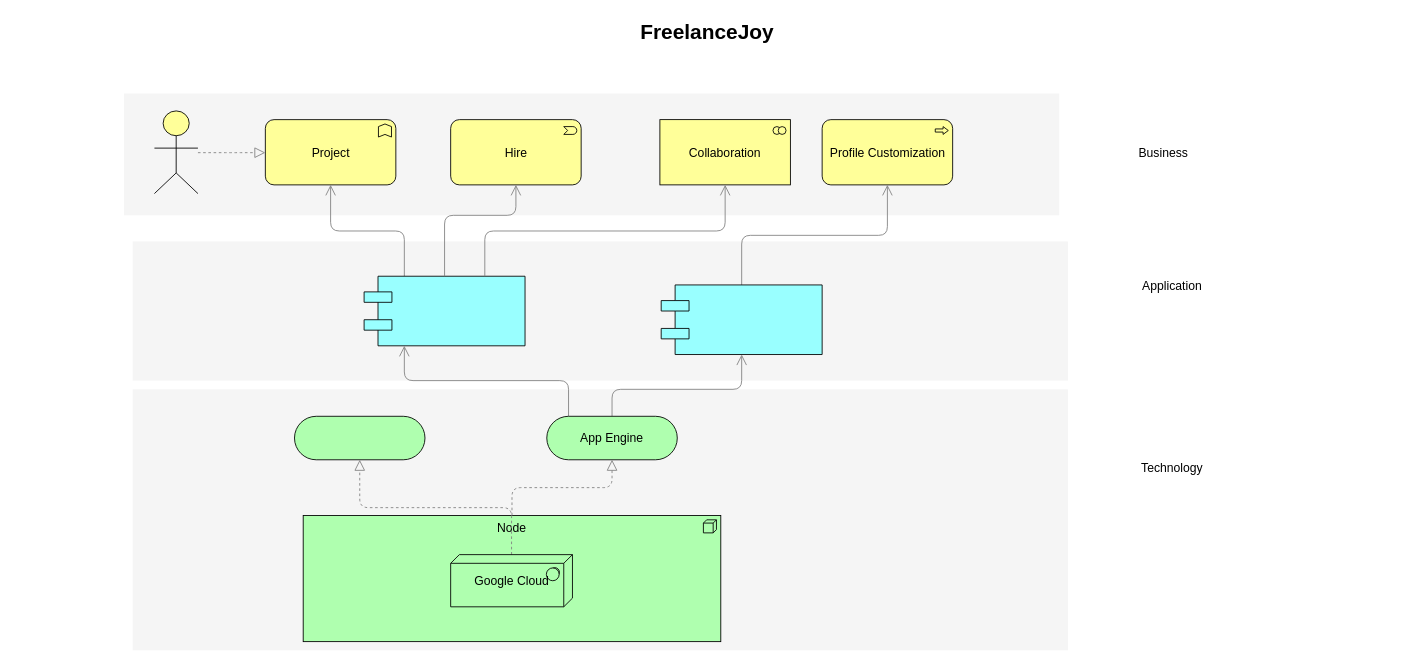
This 1413x665 diagram has some shape labels left out. Here are the shapes that lost their labels. From the top down, the centre of each, then its label:
At point (444, 310): "Project Management".
At point (741, 319): "User management".
At point (359, 437): "Firebase".
